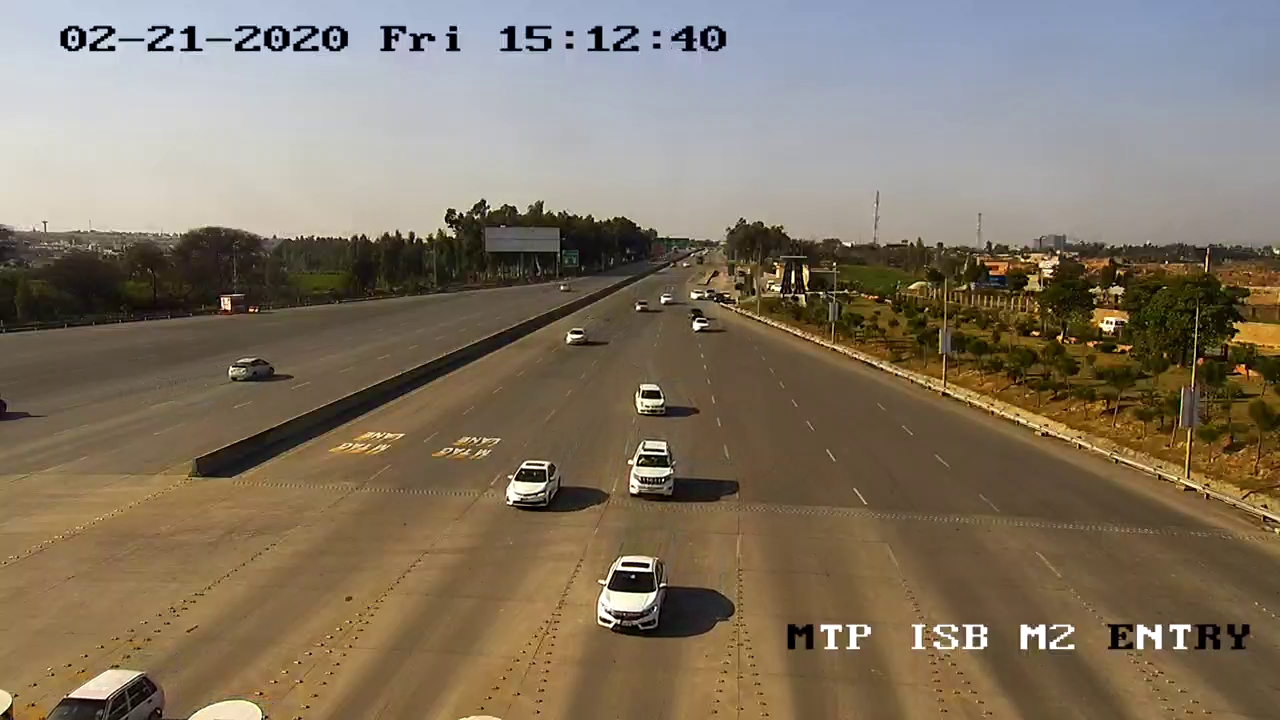f1: (590, 549, 674, 640), (620, 434, 686, 503), (501, 453, 566, 515), (628, 381, 673, 419)
